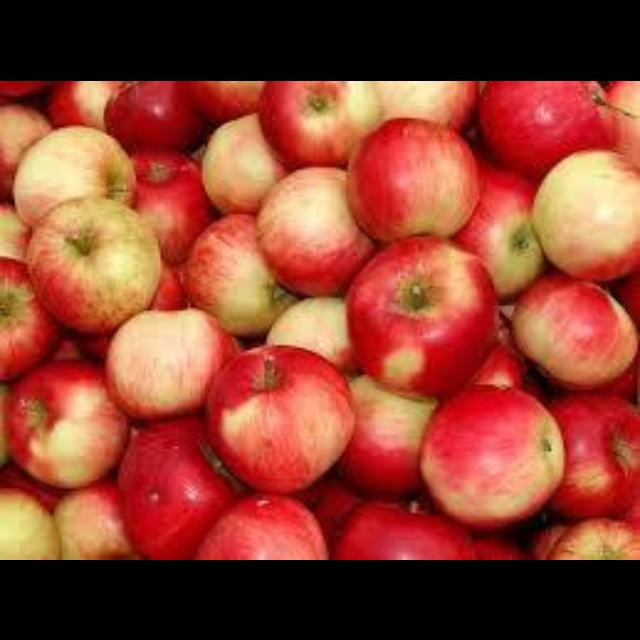apple: (346, 236, 497, 394), (208, 344, 353, 490), (25, 196, 161, 332), (119, 416, 235, 557), (346, 117, 477, 241), (5, 359, 126, 485), (257, 166, 373, 293), (104, 307, 235, 419), (180, 213, 294, 335), (512, 273, 635, 386), (531, 149, 638, 278), (452, 159, 544, 297), (336, 374, 435, 495), (549, 394, 638, 517), (257, 80, 381, 164), (131, 149, 210, 260), (331, 503, 474, 557), (104, 80, 208, 149), (267, 295, 356, 372), (472, 342, 521, 384)
